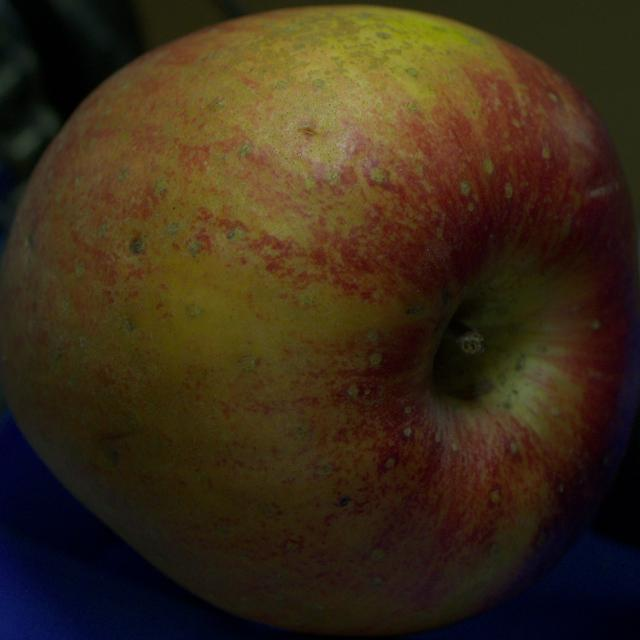apple: (0, 4, 639, 634)
pest: (129, 237, 144, 254), (340, 498, 349, 506)
scratch: (299, 125, 317, 134)
